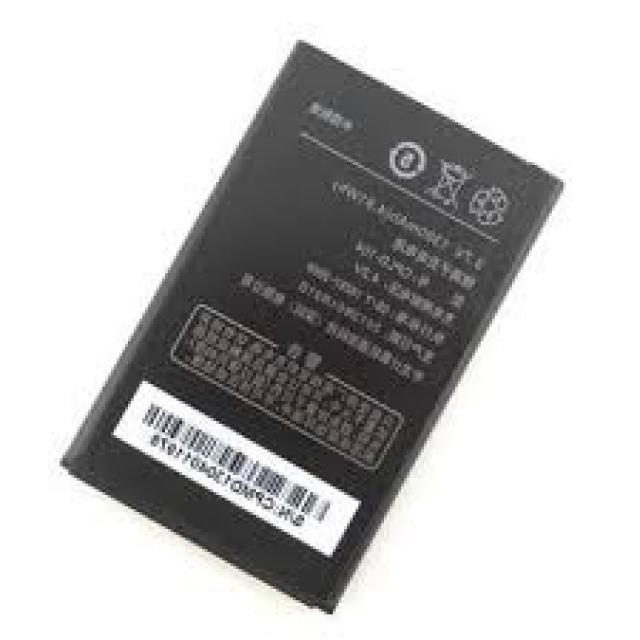battery: (71, 35, 561, 618)
